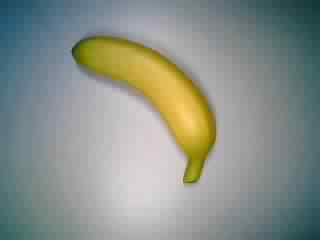banana: (68, 32, 218, 186)
